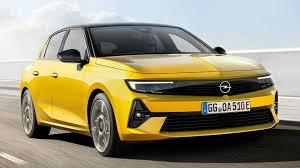opel: (218, 80, 232, 94)
